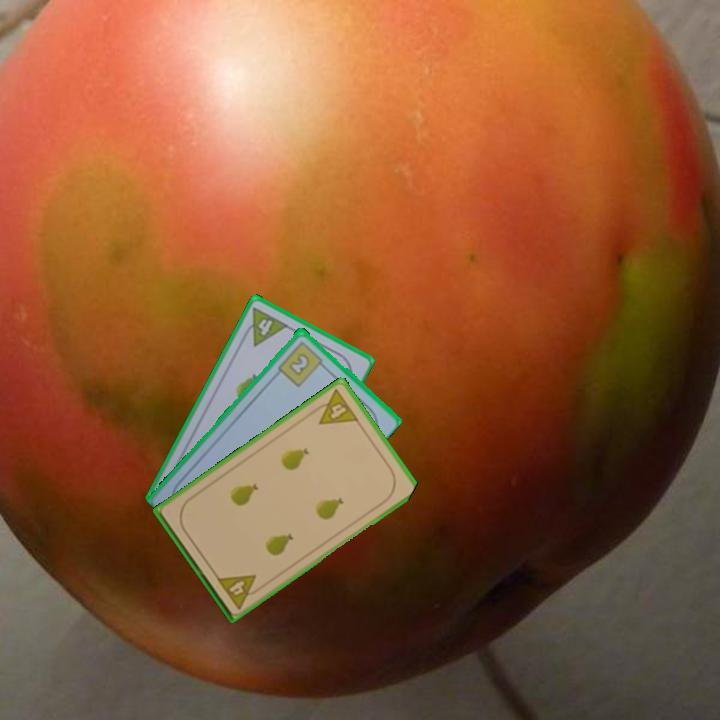2b: (274, 337, 329, 389)
4p: (238, 304, 291, 349), (308, 386, 362, 427), (213, 570, 265, 612)
